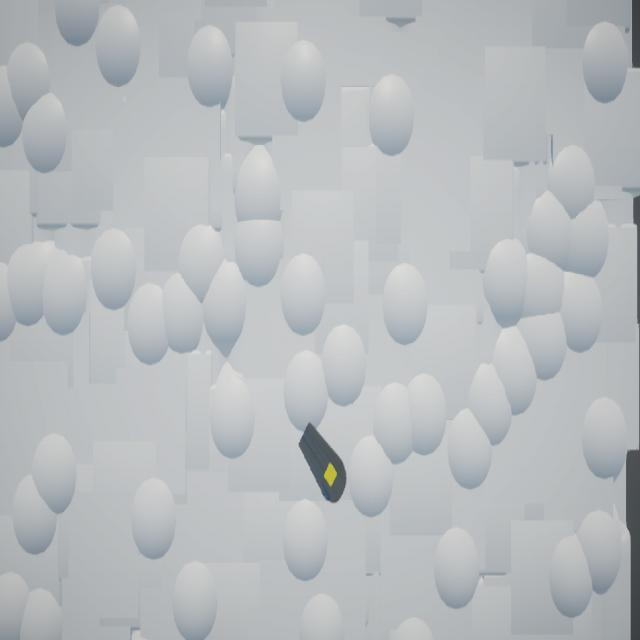handle_folk: (299, 423, 348, 505)
